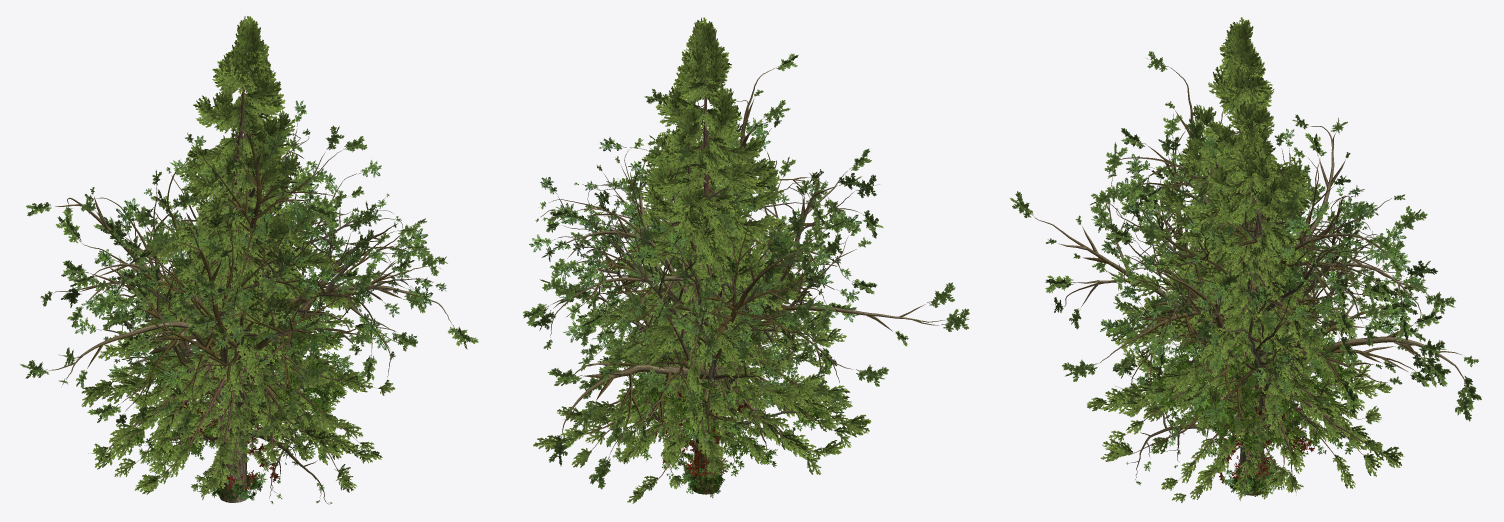
File: trees.glb
3 renders of one model, left to right at view 1: azimuth 30°, elevation 25°; view 2: azimuth 150°, elevation 25°; view 3: azimuth 270°, elevation 25°, orthographic. The views are drawn at different scales.
Parts seen in each view (by area): view 1: pineA_leaves, oakBareA_leaves, pineB_leaves, oakBareB_leaves, oakBareA_branches, oakBareB_branches, streetTree_leaves, pineC_leaves, pineA_branches, ashBare_branches, ashBare_leaves, pineB_branches (+2 smaller); view 2: pineA_leaves, oakBareA_leaves, pineB_leaves, oakBareB_leaves, oakBareA_branches, oakBareB_branches, streetTree_leaves, pineA_branches, pineC_leaves, ashBare_leaves, ashBare_branches, streetTree_branches (+3 smaller); view 3: pineA_leaves, oakBareA_leaves, pineB_leaves, oakBareB_leaves, oakBareA_branches, oakBareB_branches, streetTree_leaves, pineC_leaves, pineA_branches, pineB_branches, ashBare_branches, ashBare_leaves (+2 smaller).
Part boxes in pixels (box(x1,y1,x2,y2)): pineA_leaves: box(81, 16, 395, 494); oakBareA_leaves: box(20, 114, 478, 441); pineB_leaves: box(115, 94, 382, 499); oakBareB_leaves: box(74, 100, 446, 401); oakBareA_branches: box(49, 119, 451, 502); oakBareB_branches: box(102, 129, 433, 502); streetTree_leaves: box(134, 287, 347, 465); pineC_leaves: box(157, 255, 306, 491); pineA_branches: box(101, 85, 374, 480); ashBare_branches: box(132, 236, 329, 504); ashBare_leaves: box(122, 256, 332, 503); pineB_branches: box(144, 135, 360, 487); pineA_leaves: box(533, 17, 871, 489); oakBareA_leaves: box(523, 53, 969, 489); pineB_leaves: box(589, 103, 847, 503); oakBareB_leaves: box(529, 117, 861, 442); oakBareA_branches: box(549, 68, 944, 494); oakBareB_branches: box(541, 128, 837, 494); streetTree_leaves: box(599, 259, 832, 479); pineA_branches: box(564, 78, 847, 475); pineC_leaves: box(625, 245, 787, 479); ashBare_leaves: box(619, 266, 801, 434); ashBare_branches: box(631, 275, 800, 432); streetTree_branches: box(611, 269, 826, 472); pineA_leaves: box(1087, 17, 1404, 492); oakBareA_leaves: box(1009, 51, 1481, 452); pineB_leaves: box(1118, 104, 1392, 502); oakBareB_leaves: box(1091, 128, 1421, 424); oakBareA_branches: box(1034, 67, 1465, 495); oakBareB_branches: box(1111, 152, 1397, 495); streetTree_leaves: box(1146, 276, 1355, 458); pineC_leaves: box(1167, 248, 1323, 499); pineA_branches: box(1107, 102, 1384, 491); pineB_branches: box(1136, 201, 1373, 493); ashBare_branches: box(1127, 218, 1327, 479); ashBare_leaves: box(1126, 227, 1335, 485).
Bounding box in the file's own units: 16.17 × 17.1 × 15.61.
Materials: 11 (11 with a texture image).
